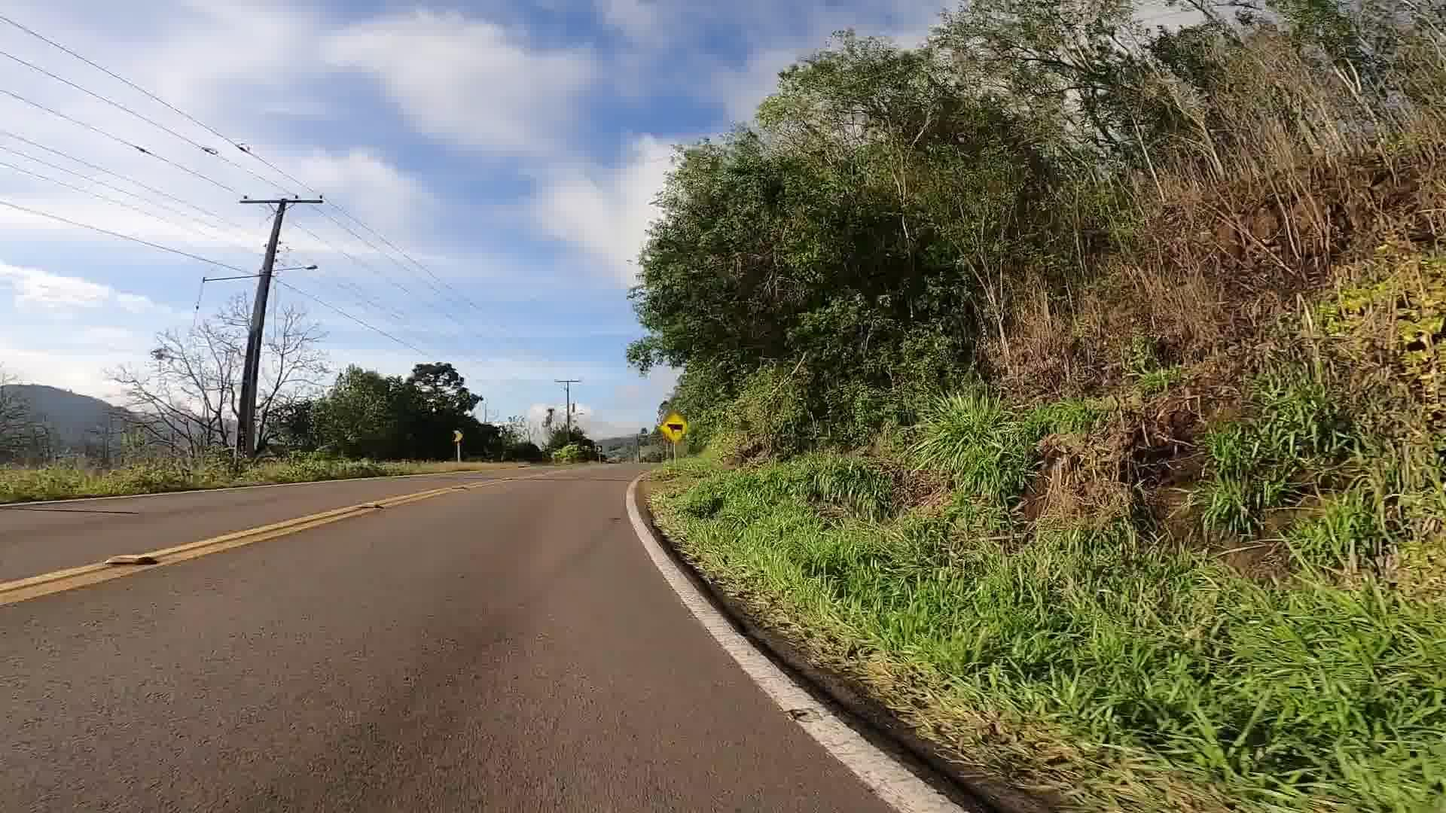A-35: (656, 407, 694, 447)
